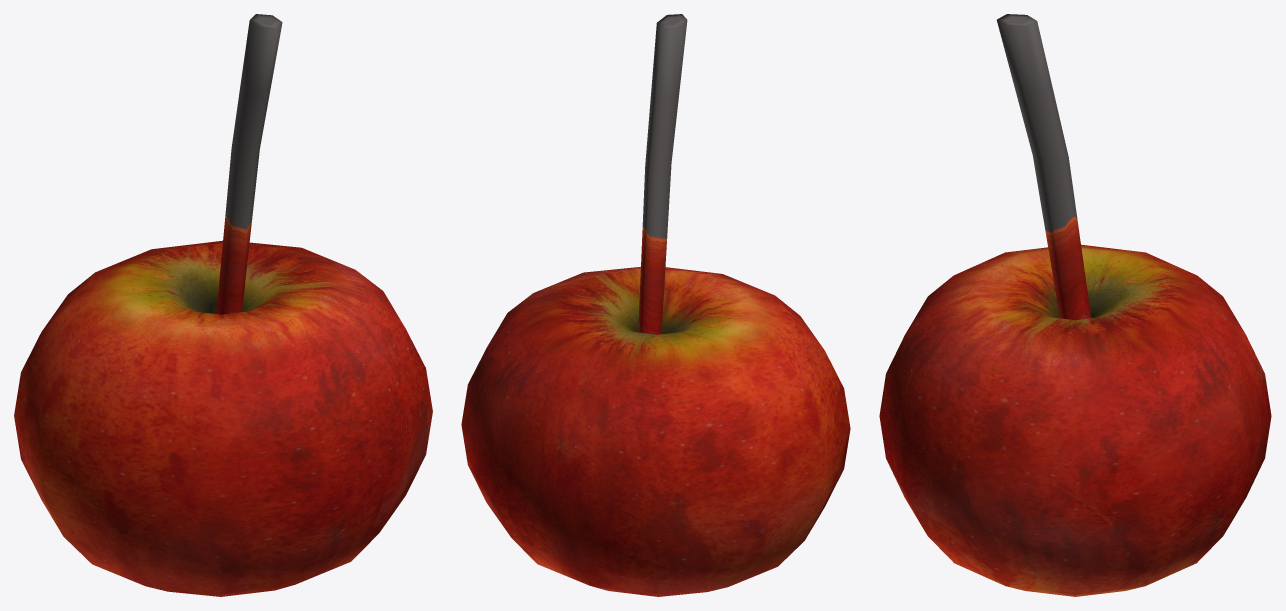
Rendered from apple2.obj.
The picture shows the model from 3 angles, left to right: view 1: azimuth 30°, elevation 25°; view 2: azimuth 150°, elevation 25°; view 3: azimuth 270°, elevation 25°; orthographic projection. The views are drawn at different scales.
Parts seen in each view (by area): view 1: Apple, Apple.001; view 2: Apple, Apple.001; view 3: Apple, Apple.001.
Part boxes in pixels (left/top/right/bottom): Apple: left=14, top=240, right=432, bottom=596; Apple.001: left=216, top=14, right=282, bottom=314; Apple: left=461, top=267, right=850, bottom=596; Apple.001: left=638, top=14, right=687, bottom=334; Apple: left=879, top=244, right=1271, bottom=596; Apple.001: left=996, top=14, right=1091, bottom=320.
Size of the model in its own units: 5.19 by 7.46 by 4.9.
1 material, 1 textured.
